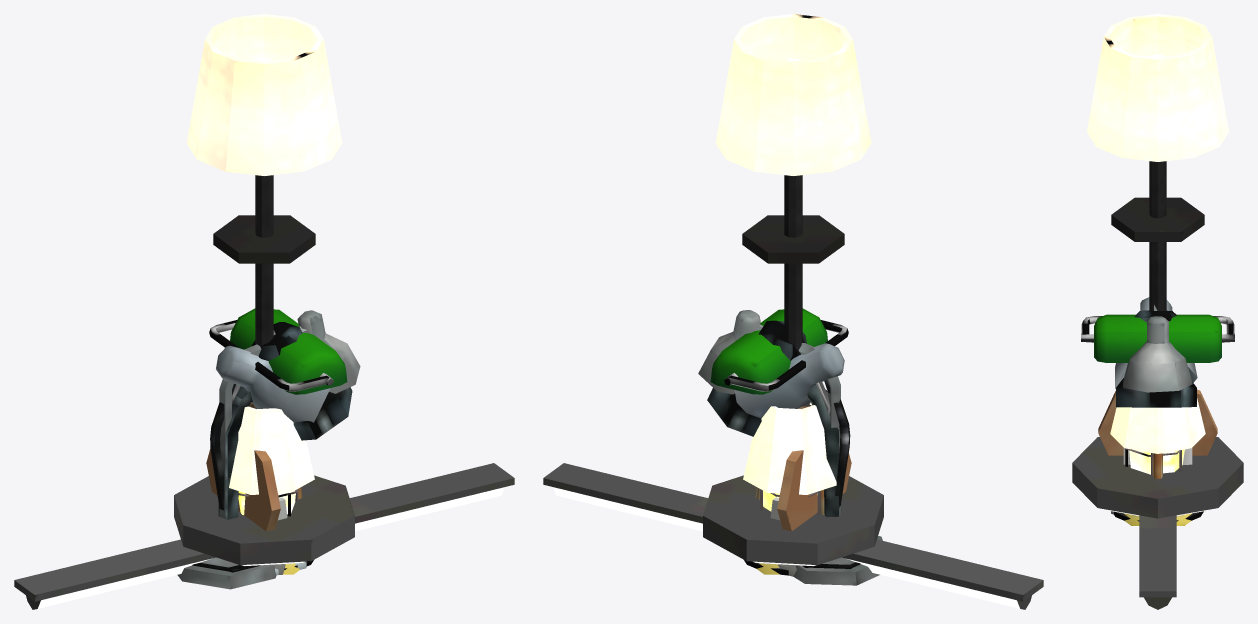
The model's file is LightingElectrical_Models.fbx.
3 renders of one model, left to right at view 1: azimuth 30°, elevation 25°; view 2: azimuth 150°, elevation 25°; view 3: azimuth 270°, elevation 25°, orthographic. The views are drawn at different scales.
Visible parts, largest first — view 1: HouseProps_lamp, HouseProps_ceilingLight3, HouseProps_ceilingLight, Village_Lamp_03, HouseProps_tableLamp, Village_Lamp_02, Village_Lamp_094, Village_Lamp_01, HouseProps_ceilingLight2, HouseProps_wallLight; view 2: HouseProps_lamp, HouseProps_ceilingLight3, HouseProps_ceilingLight, HouseProps_tableLamp, Village_Lamp_03, Village_Lamp_02, Village_Lamp_01, HouseProps_ceilingLight2, Village_Lamp_094, HouseProps_wallLight; view 3: HouseProps_lamp, HouseProps_ceilingLight, Village_Lamp_03, HouseProps_tableLamp, HouseProps_ceilingLight3, Village_Lamp_094, HouseProps_ceilingLight2, Village_Lamp_01, HouseProps_wallLight, Mine_Lamp, Village_Lamp_02, Village_Focus (+1 smaller).
Boxes of the visible parts, bbox=[...] form: HouseProps_lamp: bbox=[186, 14, 342, 569]; HouseProps_ceilingLight3: bbox=[14, 463, 514, 609]; HouseProps_ceilingLight: bbox=[174, 475, 354, 565]; Village_Lamp_03: bbox=[209, 308, 347, 574]; HouseProps_tableLamp: bbox=[229, 406, 314, 494]; Village_Lamp_02: bbox=[210, 345, 330, 575]; Village_Lamp_094: bbox=[177, 310, 360, 589]; Village_Lamp_01: bbox=[192, 322, 352, 572]; HouseProps_ceilingLight2: bbox=[213, 215, 315, 263]; HouseProps_wallLight: bbox=[206, 448, 280, 531]; HouseProps_lamp: bbox=[715, 14, 871, 575]; HouseProps_ceilingLight3: bbox=[543, 463, 1043, 609]; HouseProps_ceilingLight: bbox=[703, 475, 883, 565]; HouseProps_tableLamp: bbox=[743, 402, 836, 494]; Village_Lamp_03: bbox=[710, 308, 848, 576]; Village_Lamp_02: bbox=[734, 343, 850, 568]; Village_Lamp_01: bbox=[707, 320, 860, 568]; HouseProps_ceilingLight2: bbox=[742, 215, 844, 263]; Village_Lamp_094: bbox=[698, 310, 882, 585]; HouseProps_wallLight: bbox=[777, 450, 851, 531]; HouseProps_lamp: bbox=[1087, 14, 1228, 521]; HouseProps_ceilingLight: bbox=[1072, 437, 1243, 518]; Village_Lamp_03: bbox=[1081, 314, 1234, 362]; HouseProps_tableLamp: bbox=[1110, 398, 1205, 453]; HouseProps_ceilingLight3: bbox=[1139, 515, 1176, 609]; Village_Lamp_094: bbox=[1123, 316, 1192, 392]; HouseProps_ceilingLight2: bbox=[1111, 197, 1204, 241]; Village_Lamp_01: bbox=[1116, 305, 1196, 407]; HouseProps_wallLight: bbox=[1098, 389, 1217, 455]; Mine_Lamp: bbox=[1125, 448, 1184, 476]; Village_Lamp_02: bbox=[1111, 297, 1197, 514]; Village_Focus: bbox=[1124, 511, 1204, 525].
Bounding box in the file's own units: 1.41 × 1.44 × 0.4772.
1 material, 1 textured.
